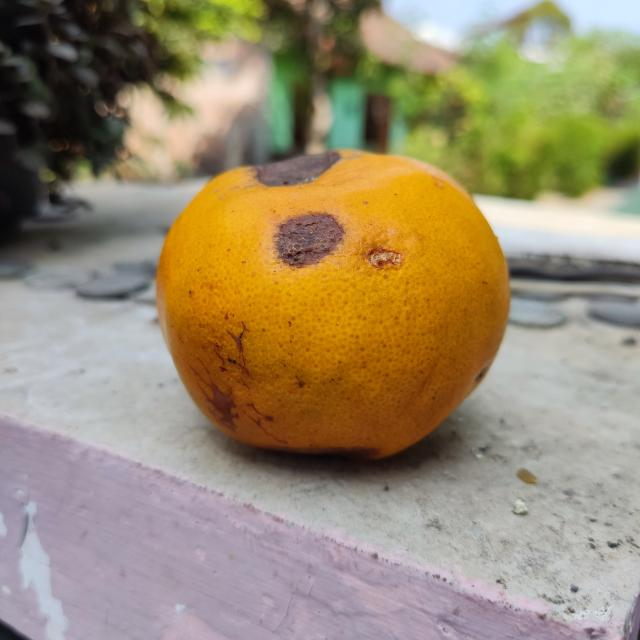orange: (154, 147, 510, 462)
